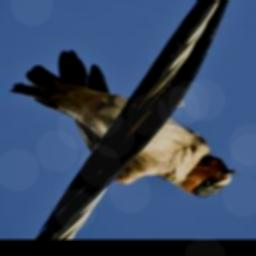Swallow: (9, 48, 238, 199)
